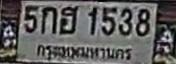1: (88, 6, 96, 34)
3: (118, 7, 132, 35)
5: (101, 6, 116, 35), (23, 4, 38, 32)
8: (135, 8, 149, 35)
A01: (40, 5, 56, 33)
A44: (58, 5, 78, 33)
BKK: (35, 43, 133, 62)
